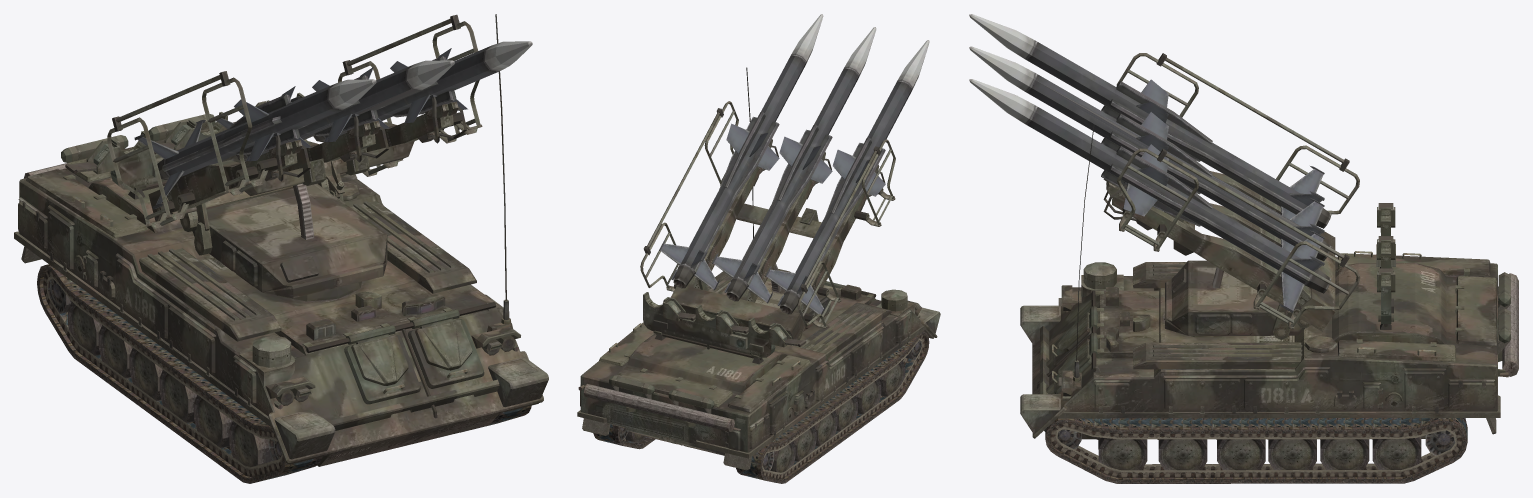
File: missile_tank.glb
3 views of the same model, side by side, from view 1: azimuth 30°, elevation 25°; view 2: azimuth 150°, elevation 25°; view 3: azimuth 270°, elevation 25° (orthographic). The views are drawn at different scales.
Visible parts, largest first — view 1: Tank_Tank_0, Tank_Wheel_0; view 2: Tank_Tank_0, Tank_Wheel_0; view 3: Tank_Tank_0, Tank_Wheel_0.
Part boxes in pixels (x1,y1,x2,y2): Tank_Tank_0: [14, 14, 548, 466]; Tank_Wheel_0: [37, 264, 531, 483]; Tank_Tank_0: [577, 14, 940, 472]; Tank_Wheel_0: [593, 331, 929, 483]; Tank_Tank_0: [969, 14, 1518, 470]; Tank_Wheel_0: [1045, 418, 1467, 483].
Size of the model in its own units: 1.19 by 1.94 by 2.5.
2 materials, 2 textured.
